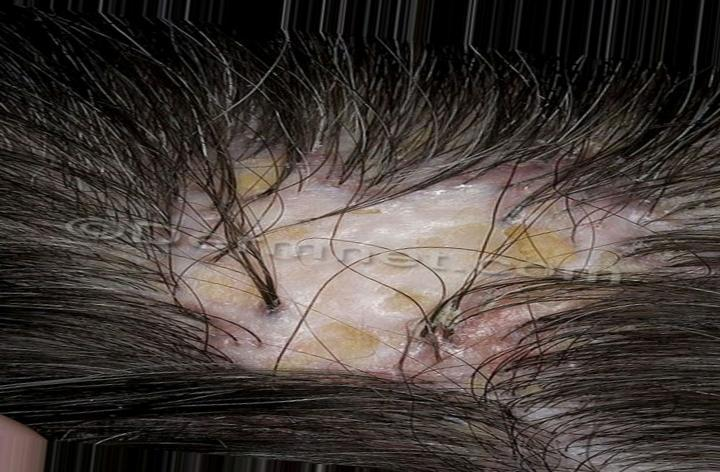Folliculitis: (201, 156, 558, 373)
